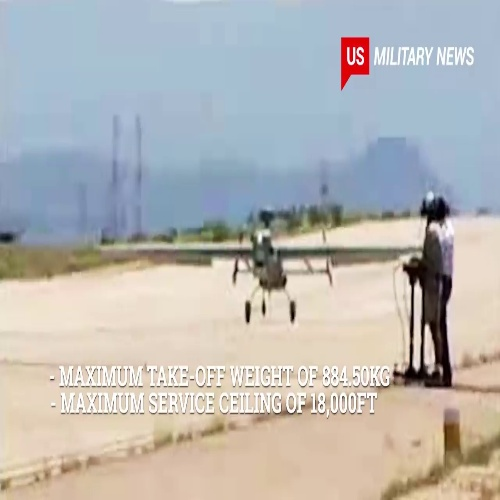uav: (96, 197, 395, 327)
